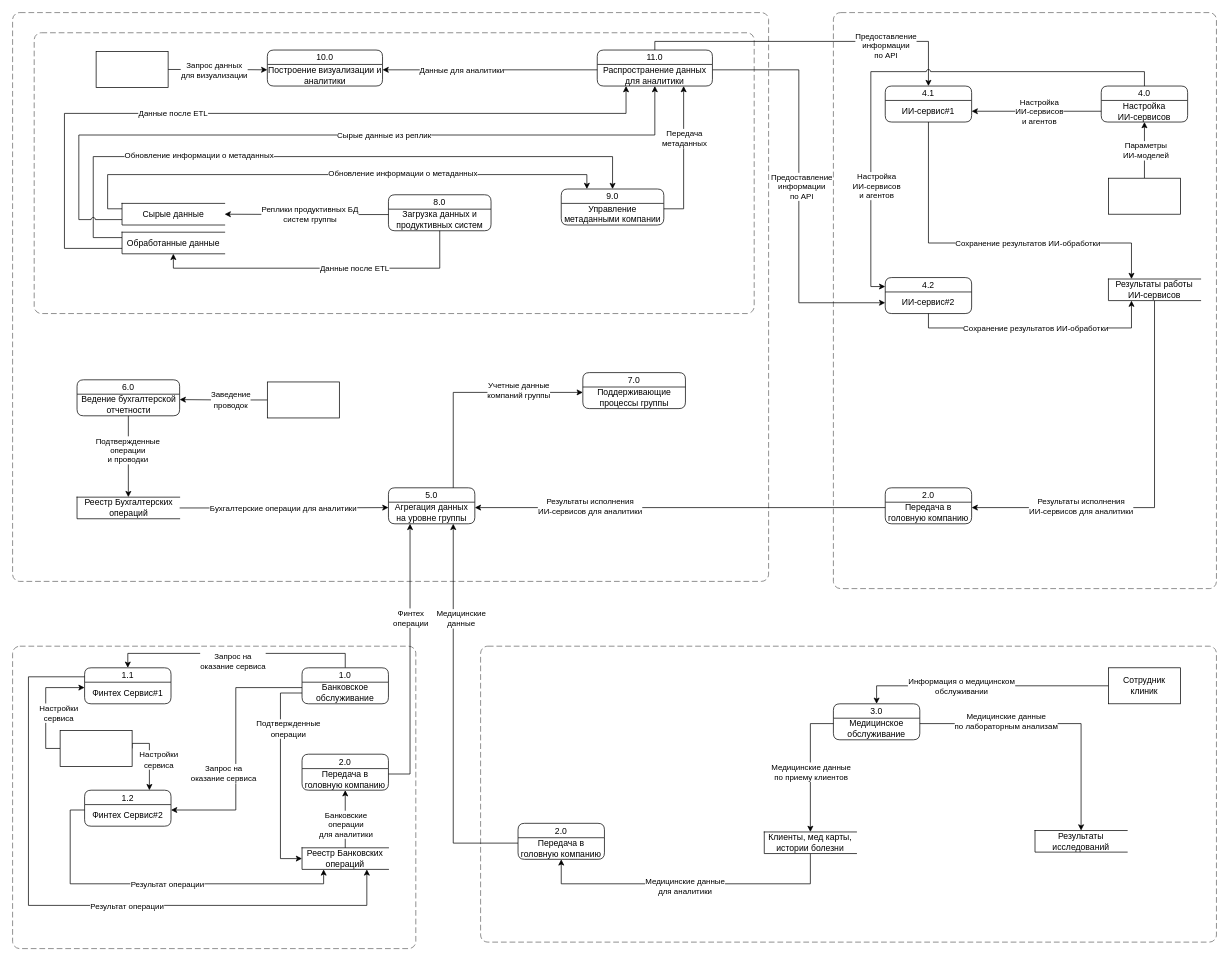
This 1229x961 diagram has some shape labels left out. The box of each missing label's shape, as (x1, y1, x2, y2) in pixels:
Администратор ИИ-сервисов: (1108, 177, 1180, 214)
Аналитик/Бизнес-пользователь: (95, 51, 168, 87)
Аналитический контур на базе DataLakeHouse [Суб-домен]: (33, 32, 754, 314)
Бухгалтер: (267, 381, 339, 418)
Головная компания [Домен]: (12, 12, 769, 581)
Клиники [Домен]: (480, 645, 1216, 942)
МЕД ИИ Компания [Домен]: (833, 12, 1216, 589)
Сотрудник Финтех компании: (59, 730, 132, 766)
Финтех [Домен]: (12, 645, 416, 949)
